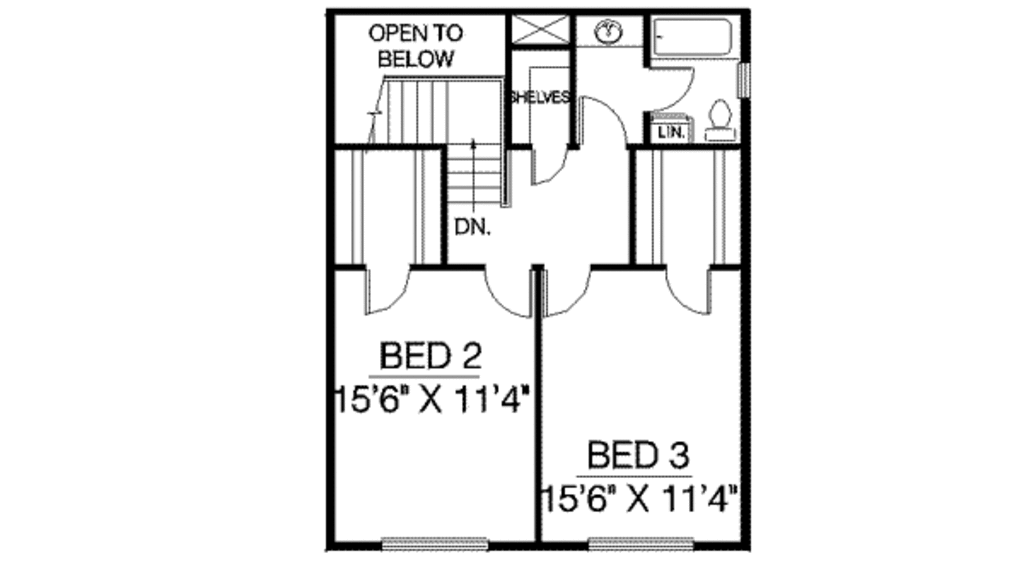door: (657, 258, 721, 330), (536, 259, 603, 322), (576, 89, 631, 152), (483, 259, 534, 321), (651, 63, 706, 116), (362, 271, 411, 312), (533, 142, 573, 190)
large_sink: (705, 98, 741, 145)
small_sink: (583, 16, 639, 41)
stairs: (365, 73, 509, 213)
tub: (648, 11, 751, 63)
window: (577, 529, 701, 551), (380, 533, 484, 557), (737, 57, 757, 100)
